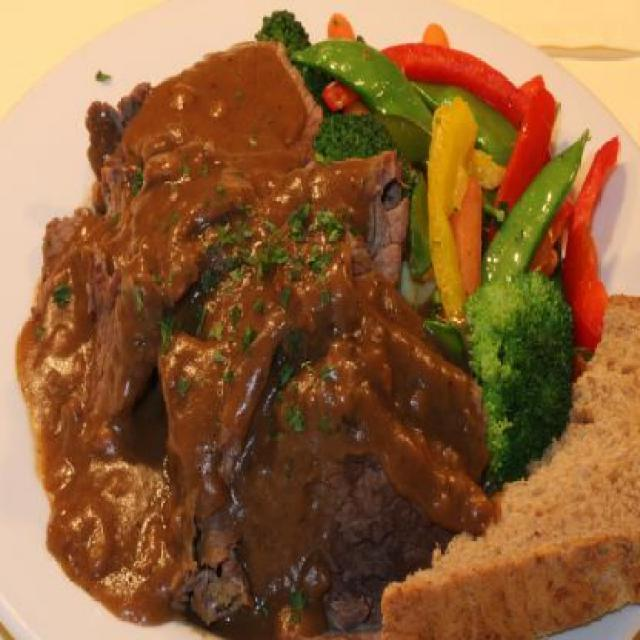Broccoli: (463, 268, 574, 488), (256, 8, 341, 118), (313, 114, 415, 198)
